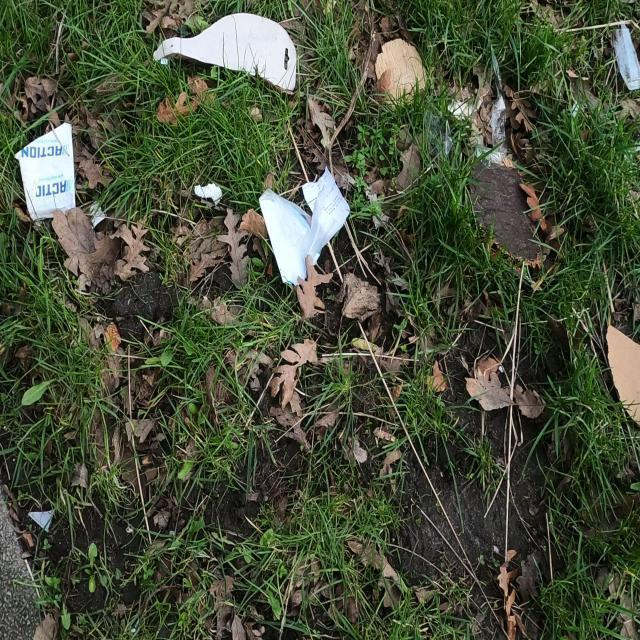Paper: (13, 117, 79, 226)
